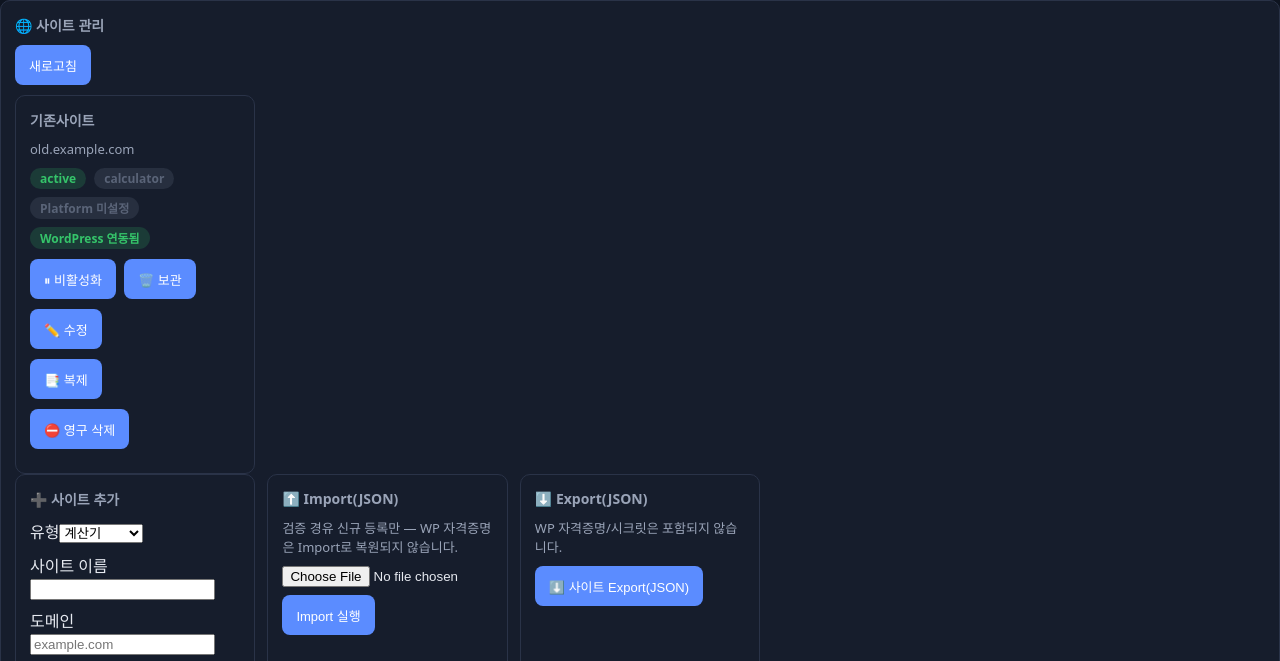
Test case: Site edit panel (STEP P2-07) › submits basic-info changes via putUpdateSite and shows the saved state
Expected: the heading "기존사이트" is shown, [30,111,94,130]
Click the button "✏️ 수정". click: point(66, 329)
box: [30,309,102,349]
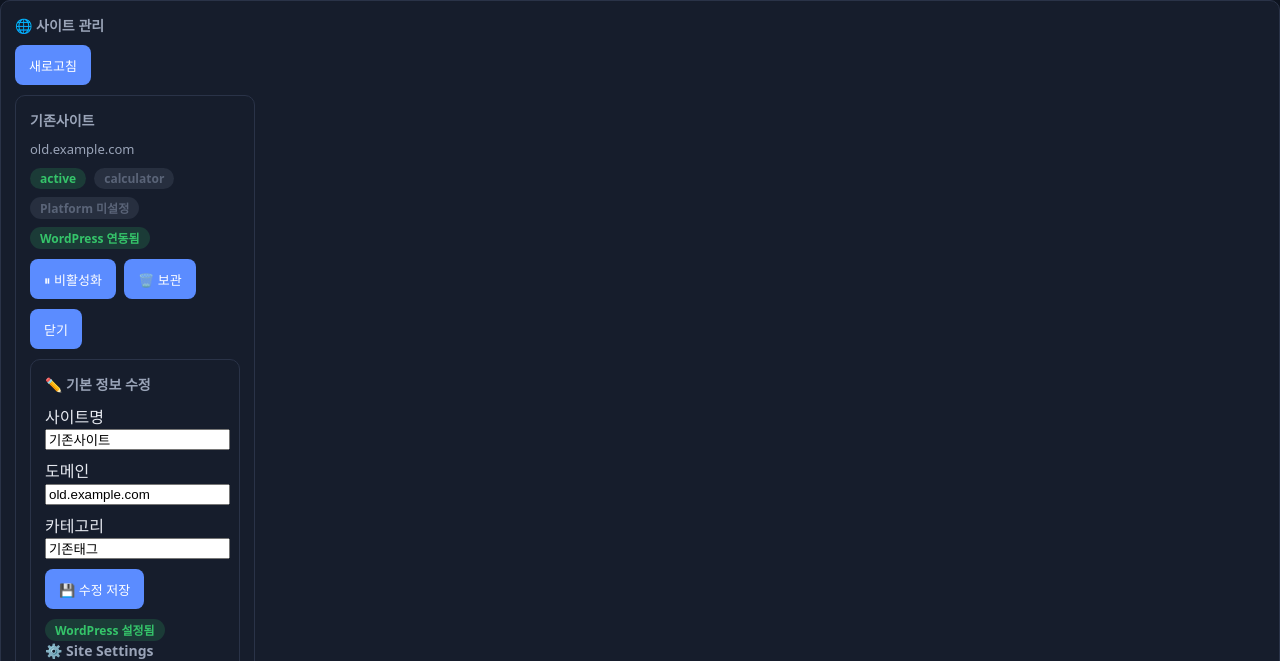
Expected: the heading "✏️ 기본 정보 수정" is shown, [45,375,151,394]
Replace the text in the field labelled "사이트명" with "변경된이름". click: point(138, 440)
box: [45,429,230,450]
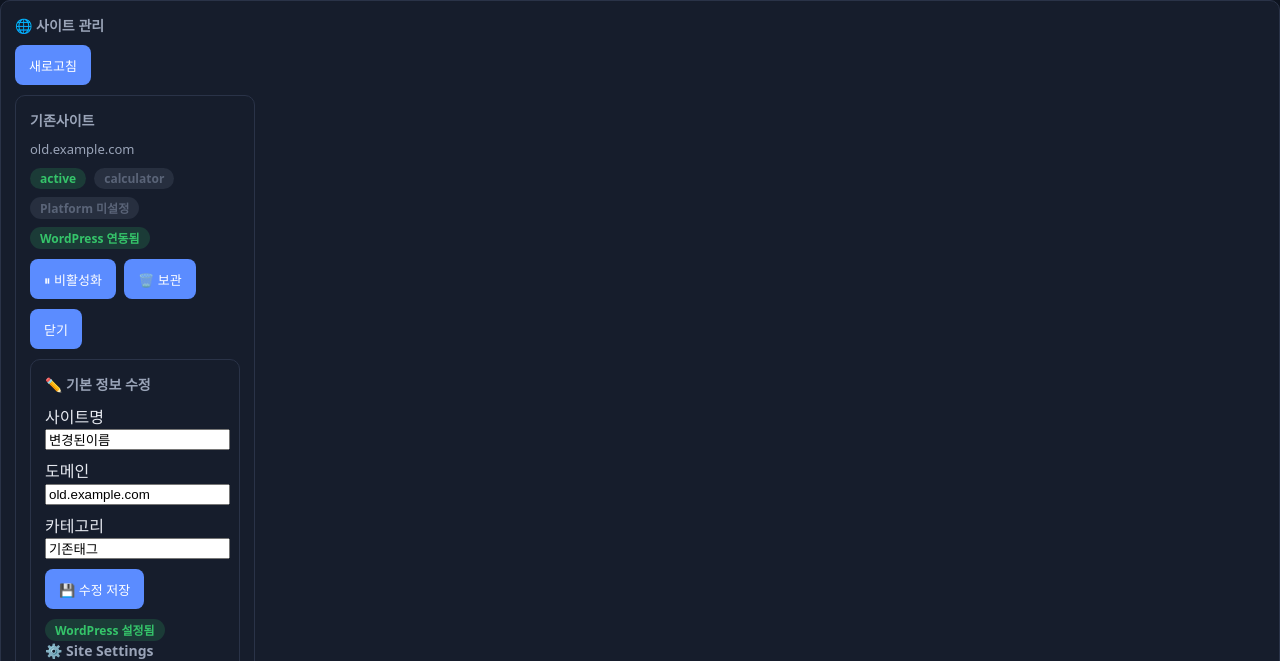
Click the button "💾 수정 저장". click: point(95, 589)
box: [45,569,144,609]
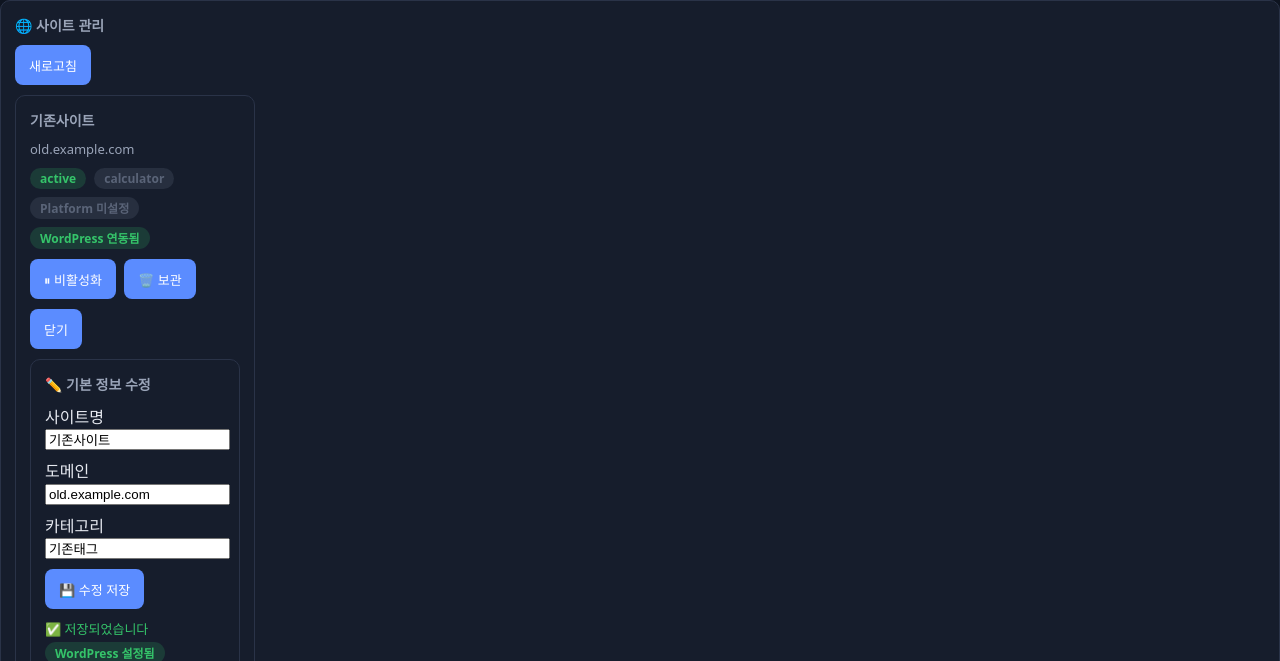
Expected: the text "✅ 저장되었습니다" is shown, [45,620,148,638]
